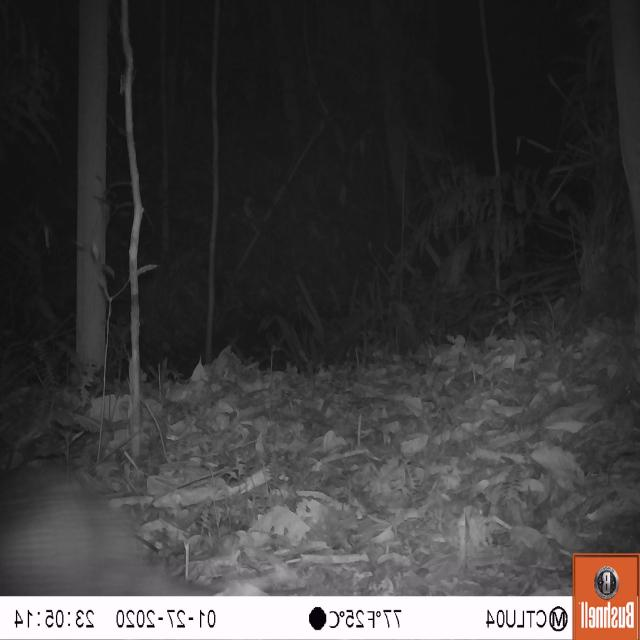Armadillo: (0, 438, 241, 596)
